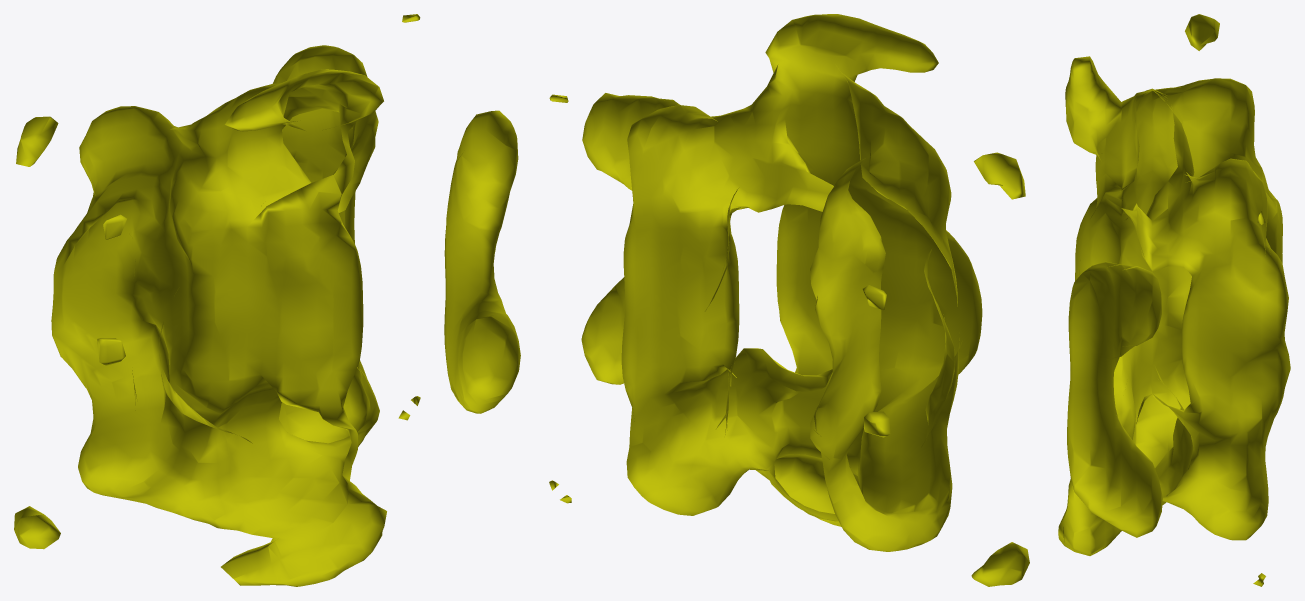
3 renders of one model, left to right at view 1: azimuth 30°, elevation 25°; view 2: azimuth 150°, elevation 25°; view 3: azimuth 270°, elevation 25°, orthographic. The views are drawn at different scales.
Visible parts, largest first — view 1: world; view 2: world; view 3: world.
Boxes of the visible parts, x1,y1,x2,y2 form: world: (14, 14, 520, 586); world: (549, 14, 1029, 586); world: (1058, 14, 1290, 586).
Size of the model in its own units: 32.36 by 33.28 by 14.9.
